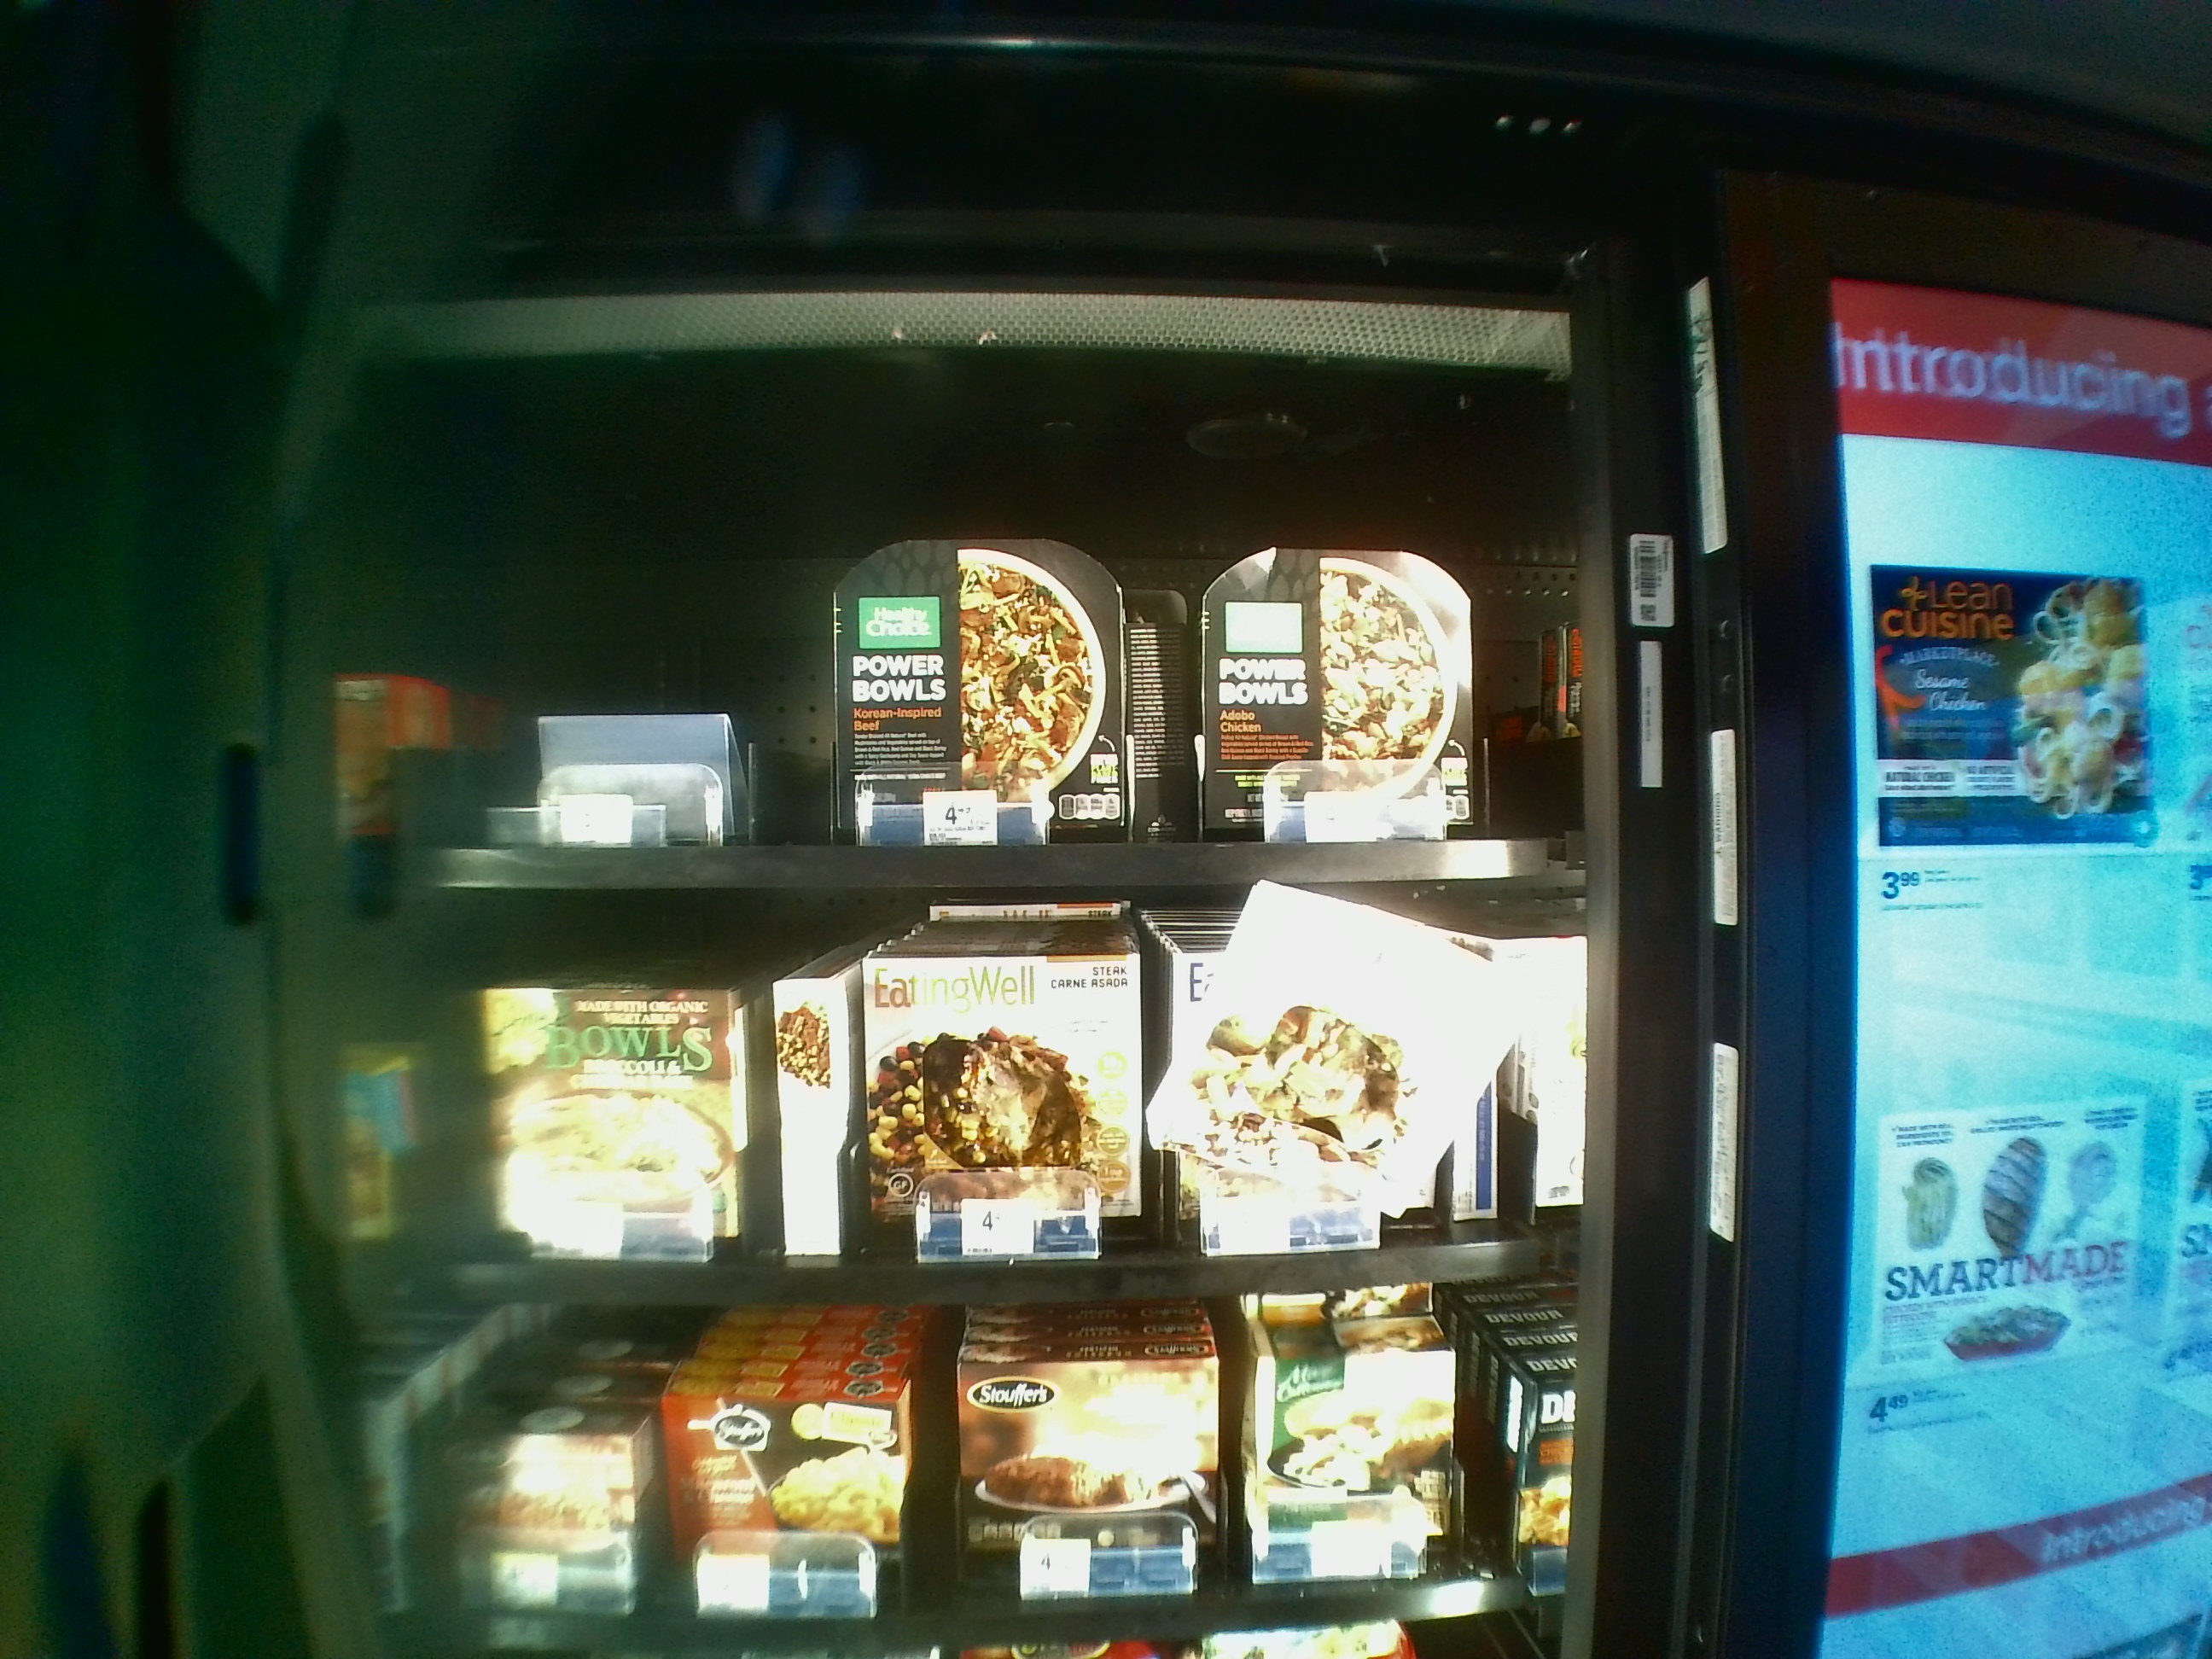shelf: (364, 364, 1561, 889), (364, 903, 1571, 1309)
